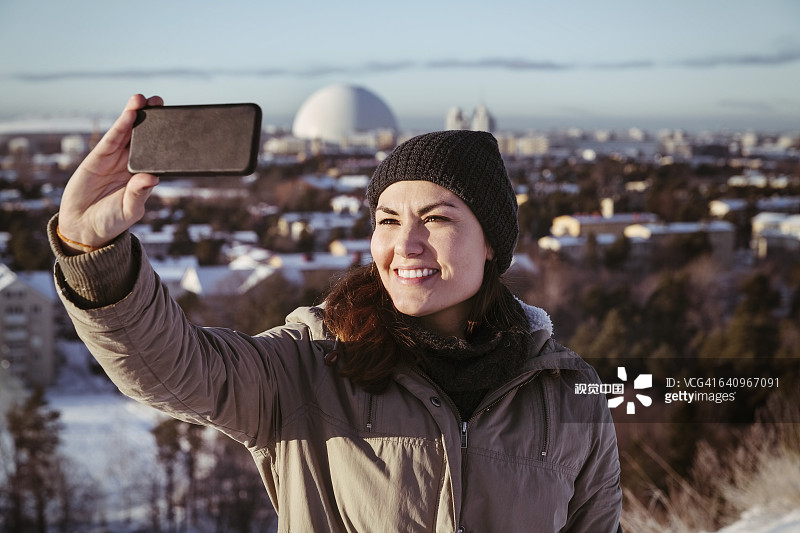taking photos: (48, 79, 275, 275)
